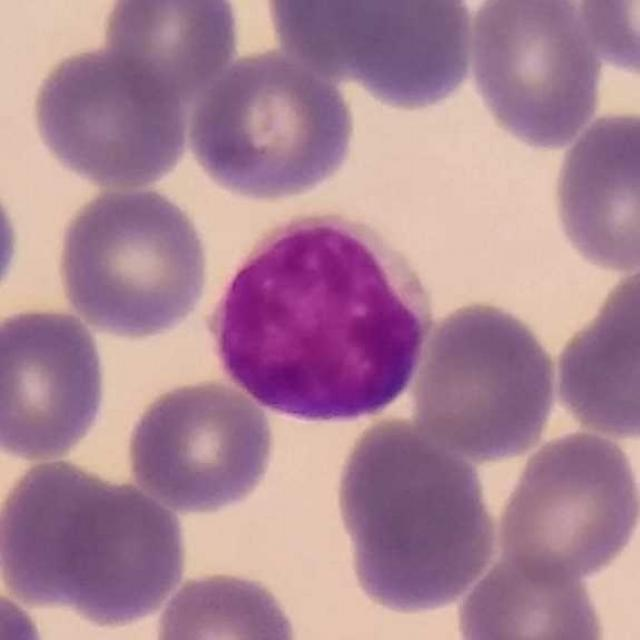Lymphocyte: (202, 207, 438, 430)
RBC: (332, 415, 502, 618), (182, 46, 360, 206), (51, 181, 214, 342), (407, 296, 562, 461), (25, 41, 192, 192), (492, 426, 639, 587), (123, 375, 277, 518), (49, 476, 191, 628), (465, 0, 607, 151), (0, 454, 125, 611), (317, 0, 480, 115), (0, 302, 111, 464), (548, 262, 640, 444), (547, 105, 640, 276), (97, 0, 244, 102), (452, 550, 610, 640), (262, 0, 435, 79), (150, 566, 301, 640), (575, 0, 640, 80), (0, 176, 23, 315), (0, 586, 51, 640)
